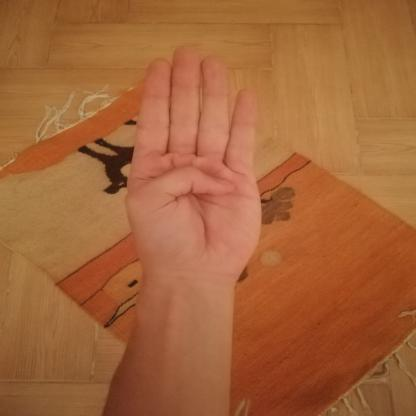KAAF: (102, 33, 286, 290)
